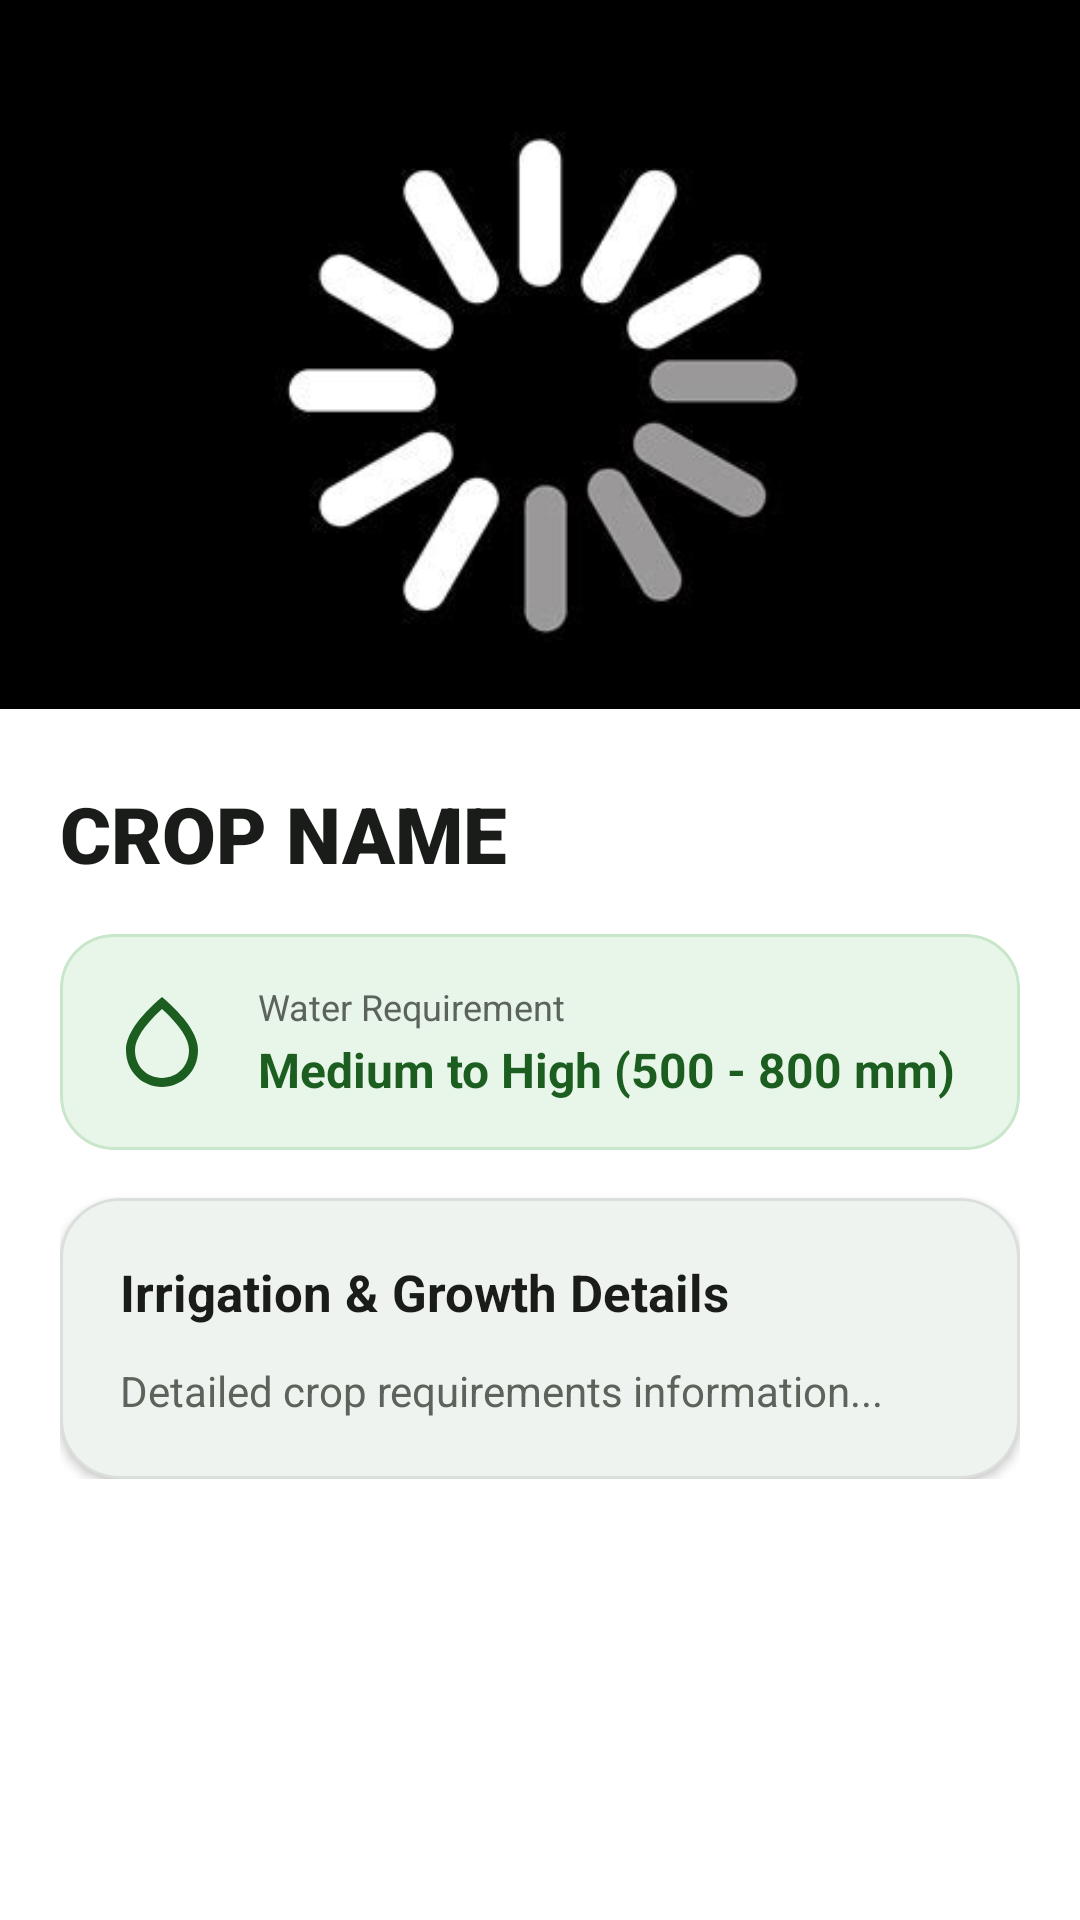

Point at icon controls on the screen. Image size 1080×1920, points as (x,y).
water drop: (162,1042)
